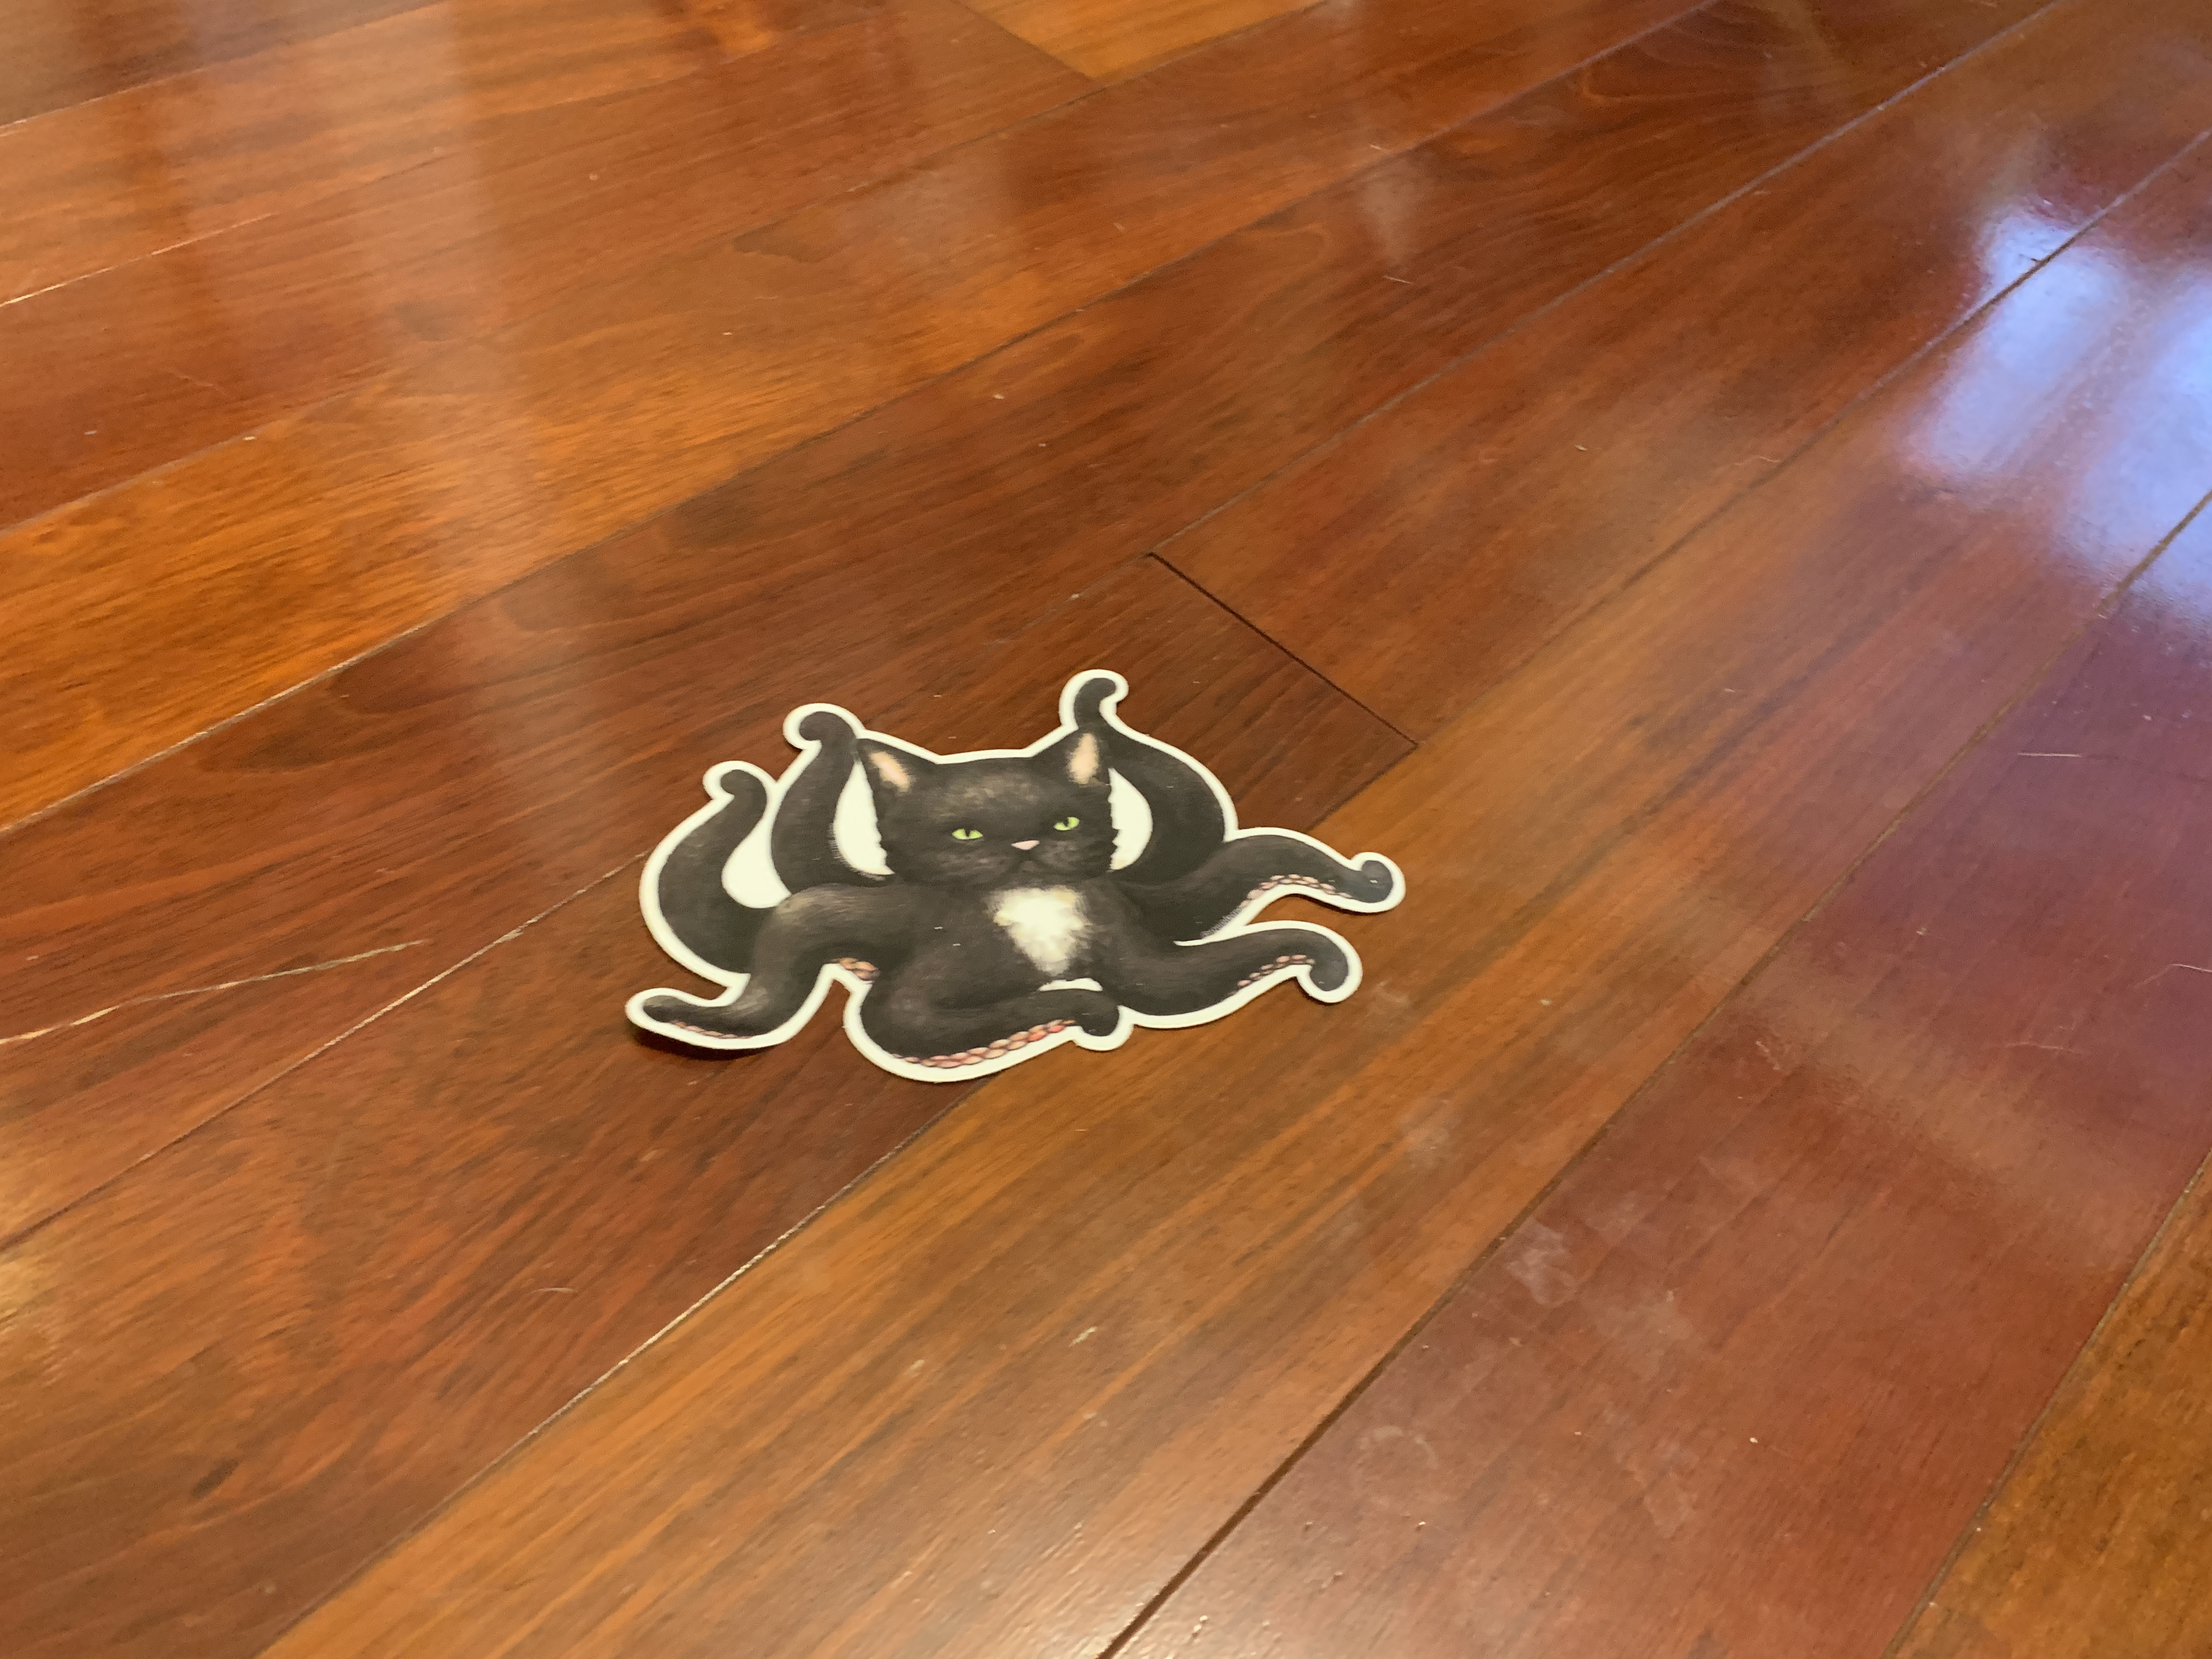Octocat-OffBrand: (583, 667, 1444, 1061)
